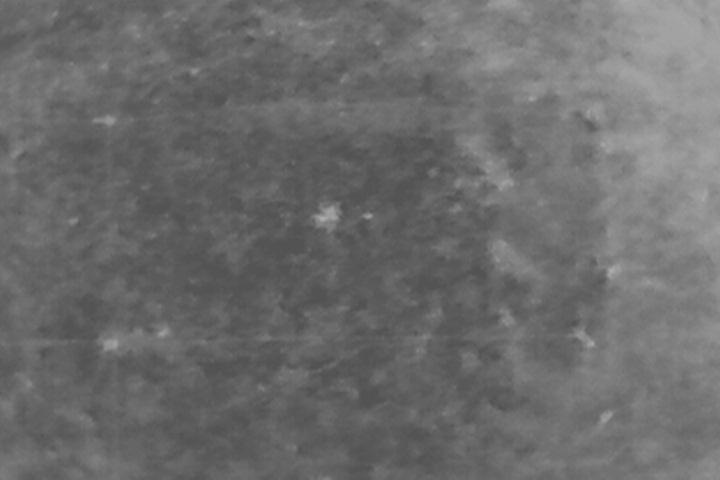landmine: (313, 203, 343, 233)
